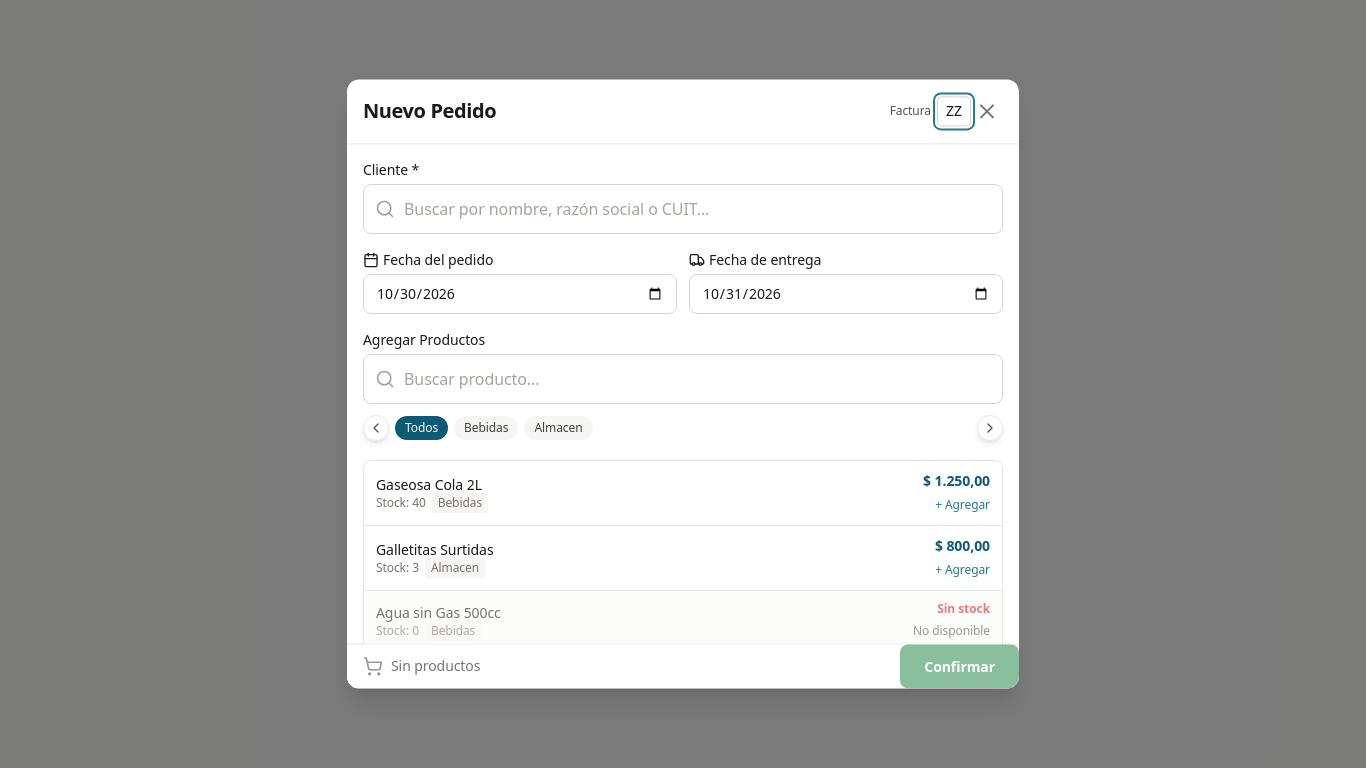
Scenario: ModalPedido — camino feliz › los controles +, − y el tacho del item del carrito mueven la cantidad y lo borran
The width and height of the screenshot is (1366, 768).
Type "Gaseosa" into the field with placeholder "Buscar producto..." at (683, 379), box [363,354,1003,404]
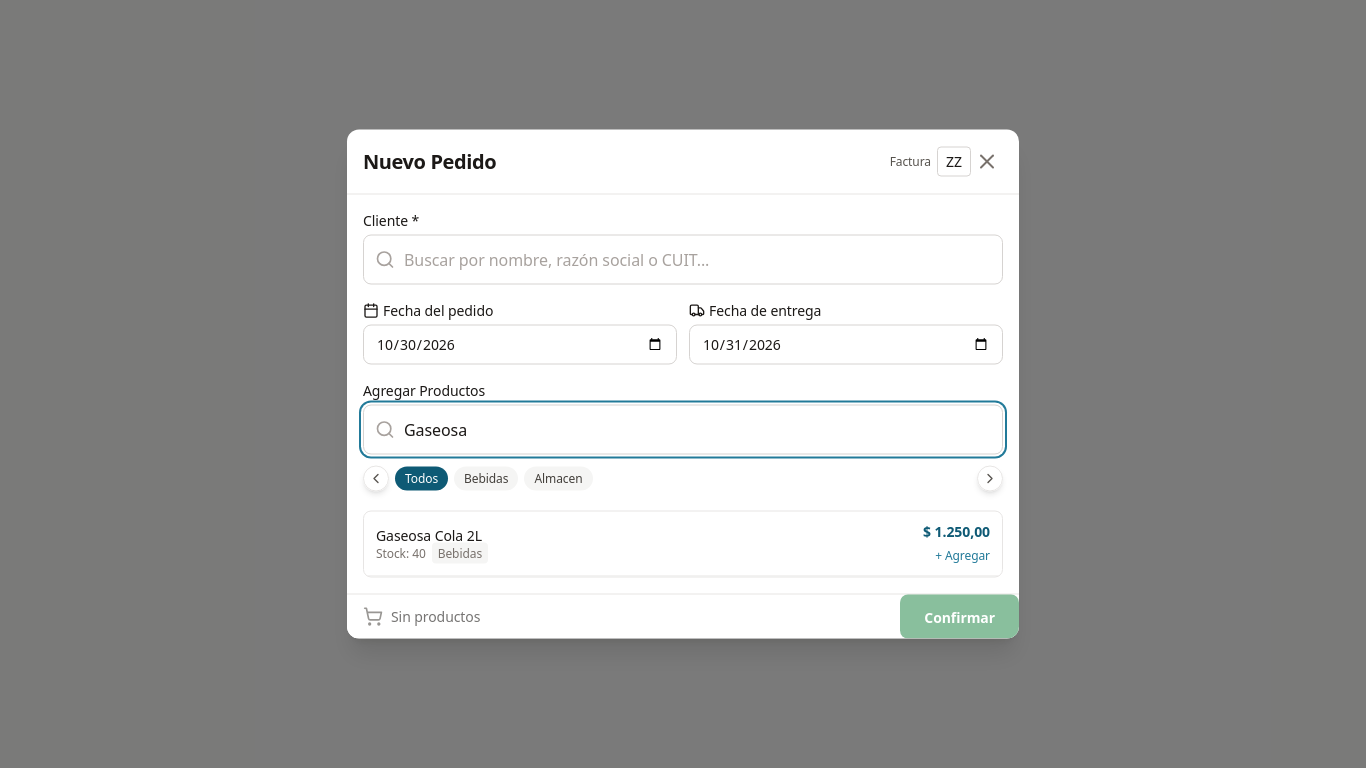
Click the text "+ Agregar" at (963, 555), box [935,546,990,564]
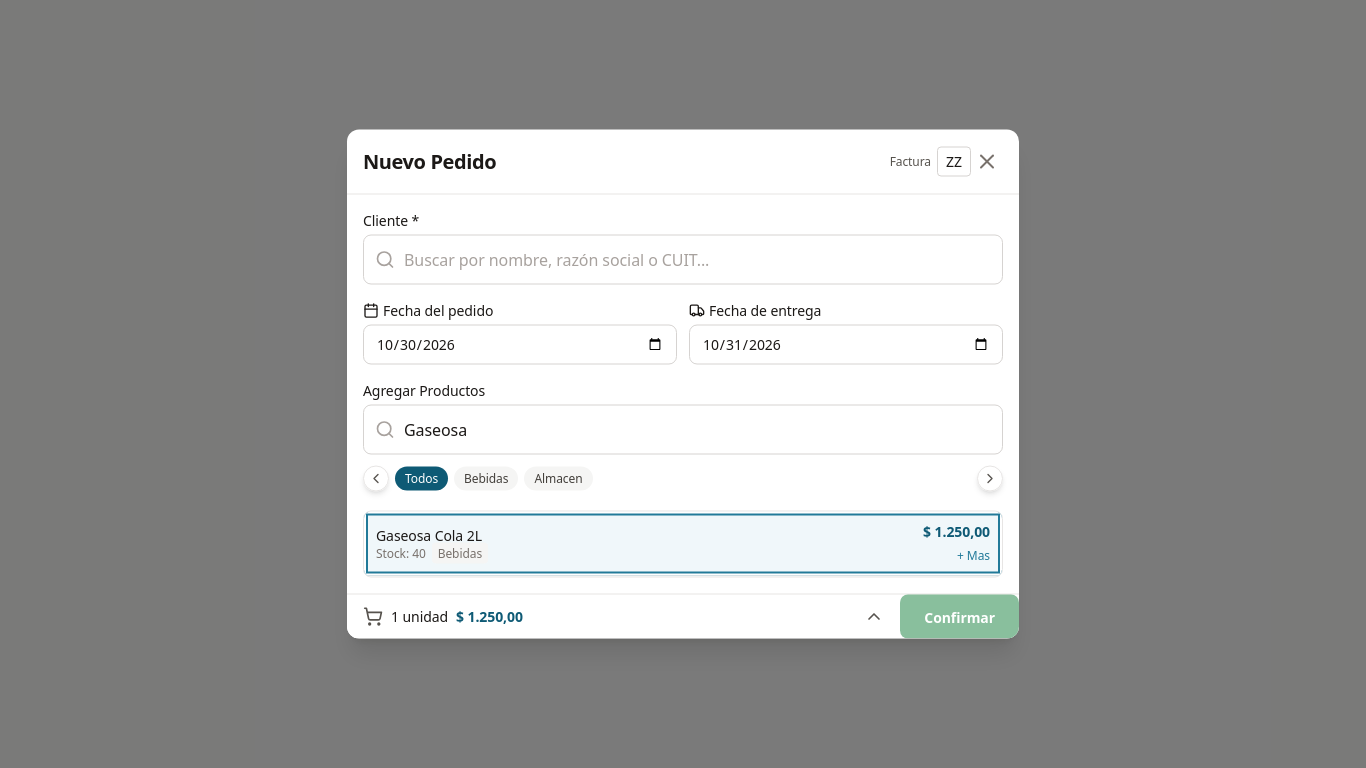
Click the button "1 unidad $ 1.250,00" at (420, 616), box [347,594,900,638]
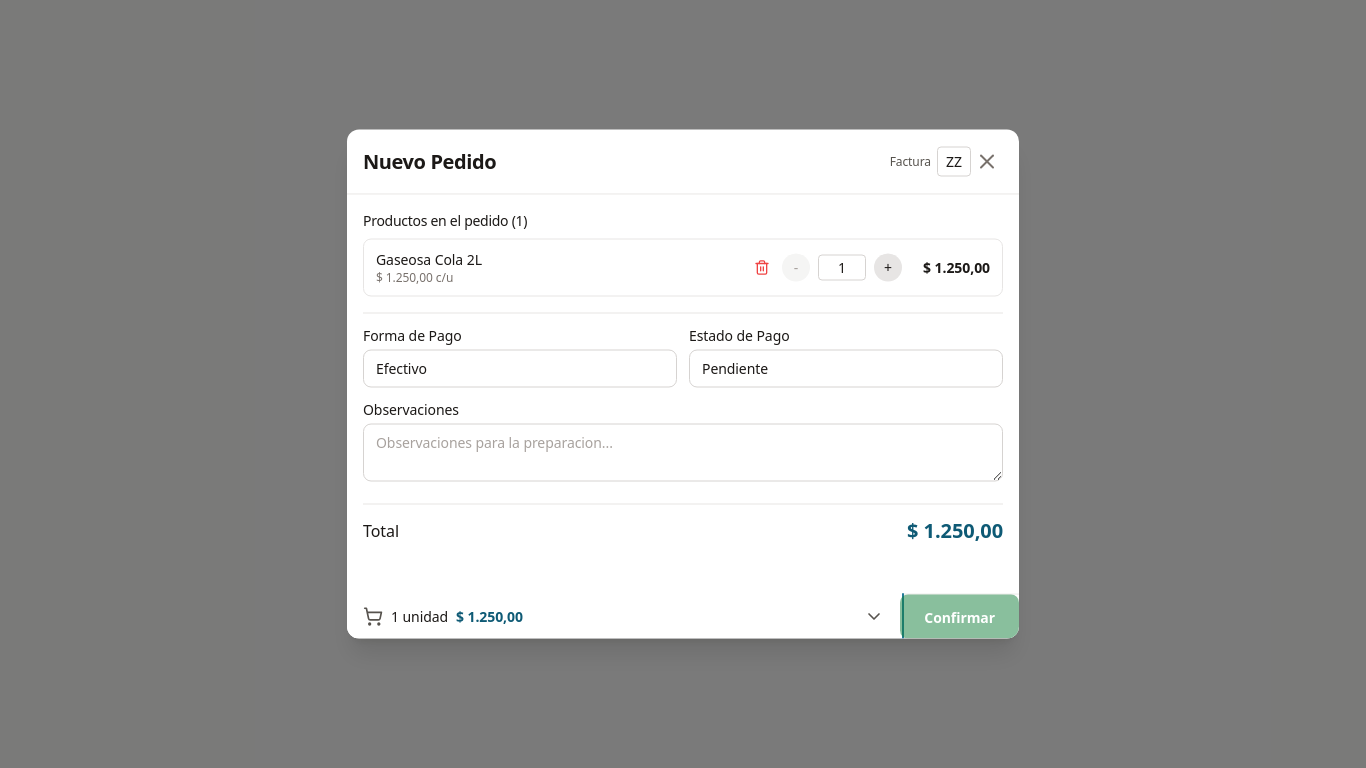
Expected: the button "-" is disabled, [782,254,810,282]
Click the button "+" at (888, 268), box [874,254,902,282]
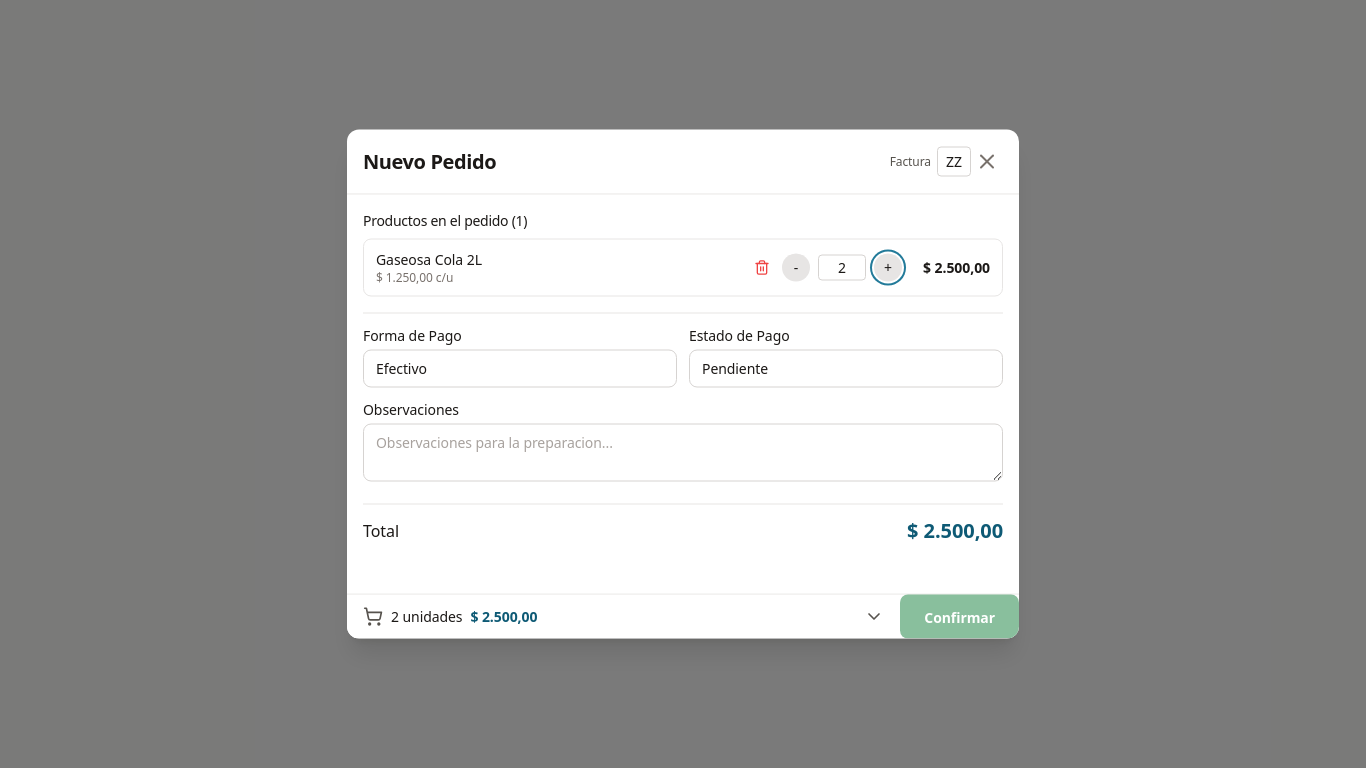
Click the button "-" at (796, 268), box [782,254,810,282]
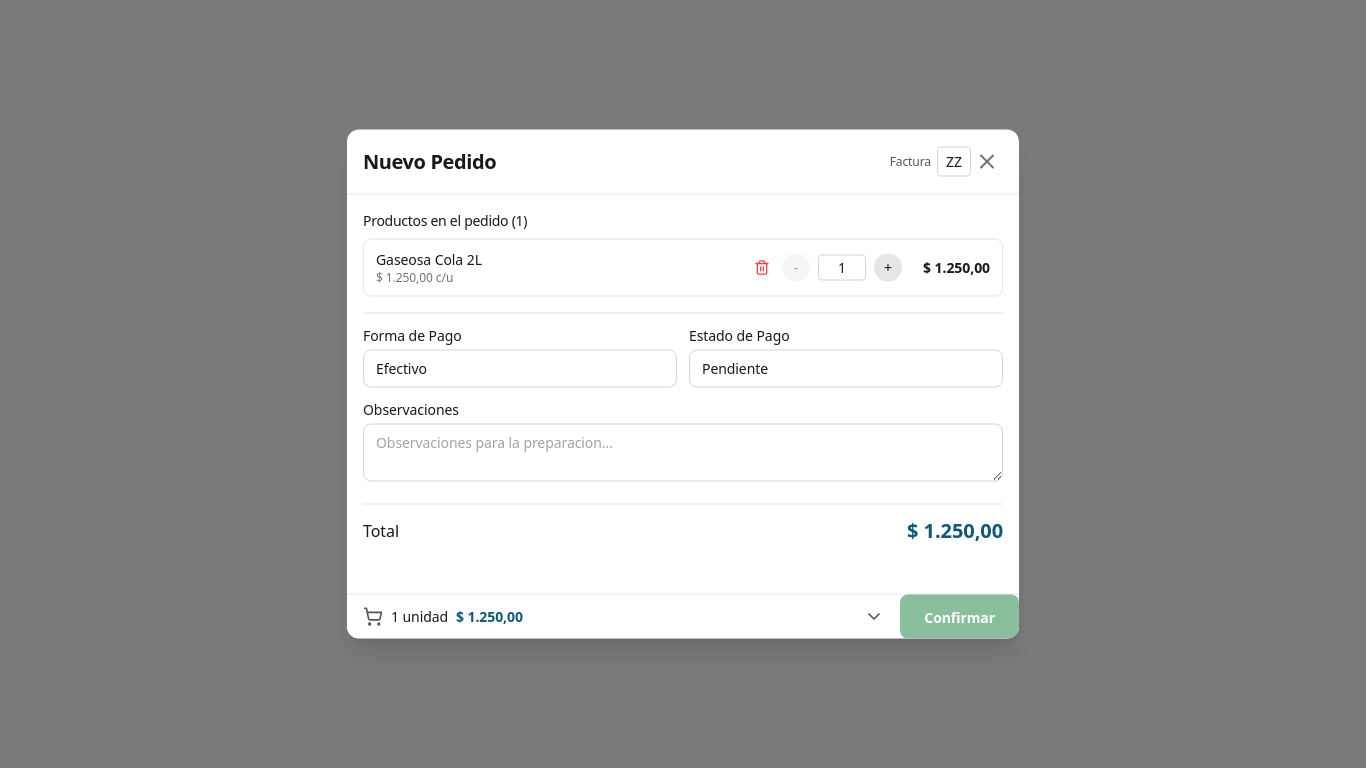
Click the button named "Eliminar producto" at (762, 268), box [750,256,774,280]
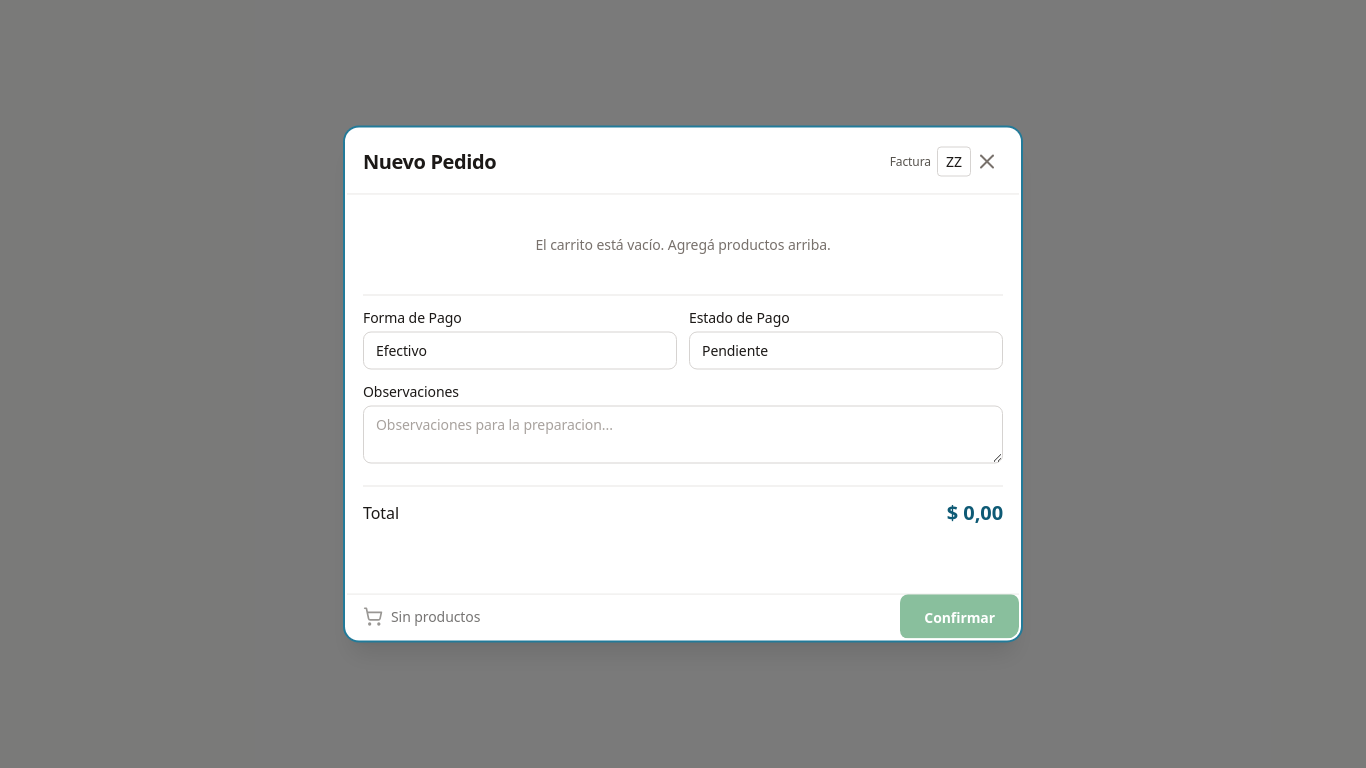
Expected: the button "Confirmar" is disabled, [900,594,1019,638]
Expected: the text "El carrito está vacío. Agregá productos arriba." is shown, [535,234,831,254]
